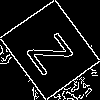Z: (25, 25, 83, 77)
